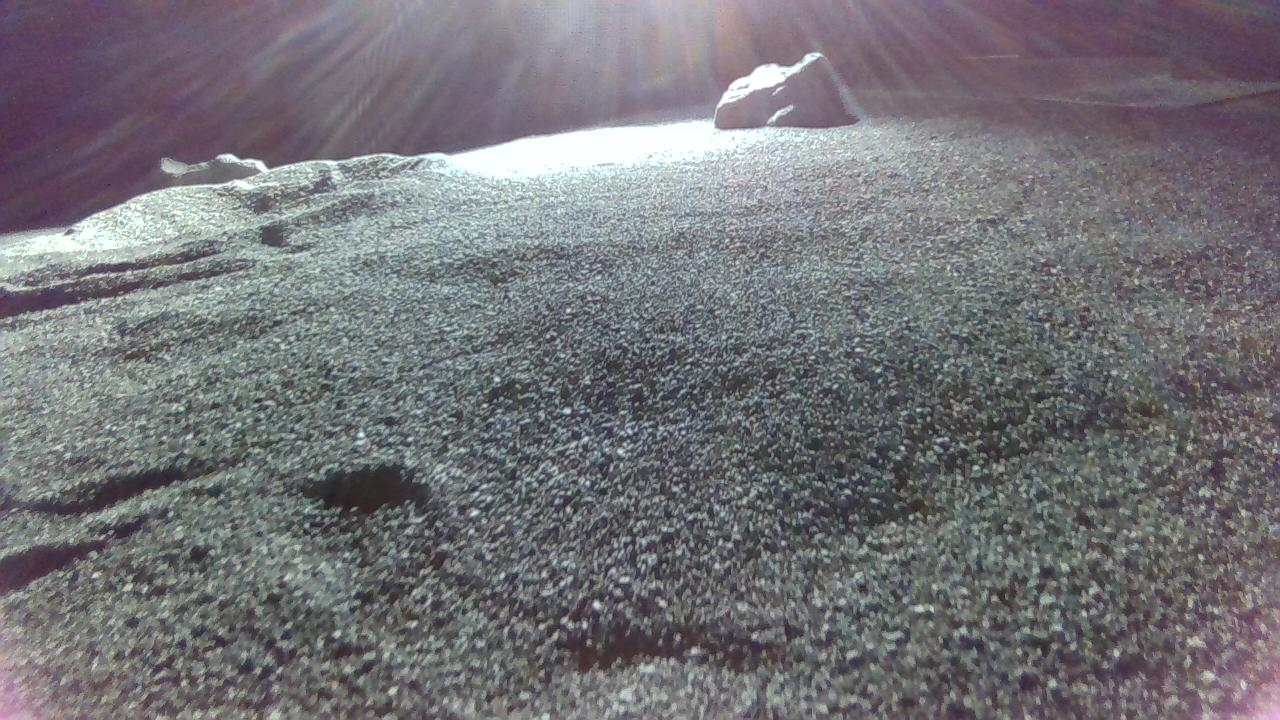rock: (716, 50, 859, 127), (149, 152, 267, 188)
